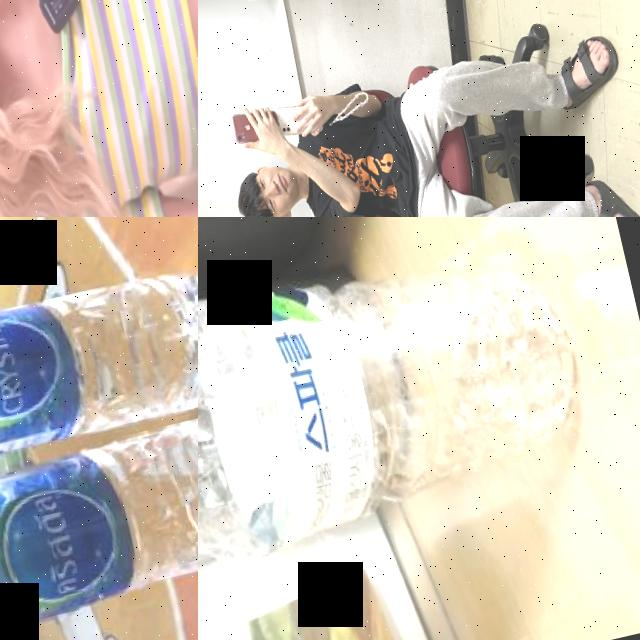bottle: (198, 217, 607, 603), (0, 243, 198, 531), (0, 392, 198, 640)
